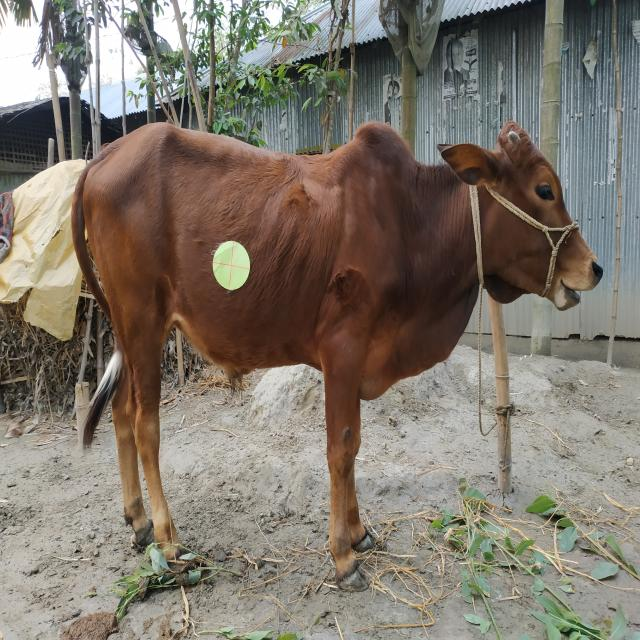badan_sapi: (77, 146, 411, 373)
sapi: (66, 107, 612, 606)
